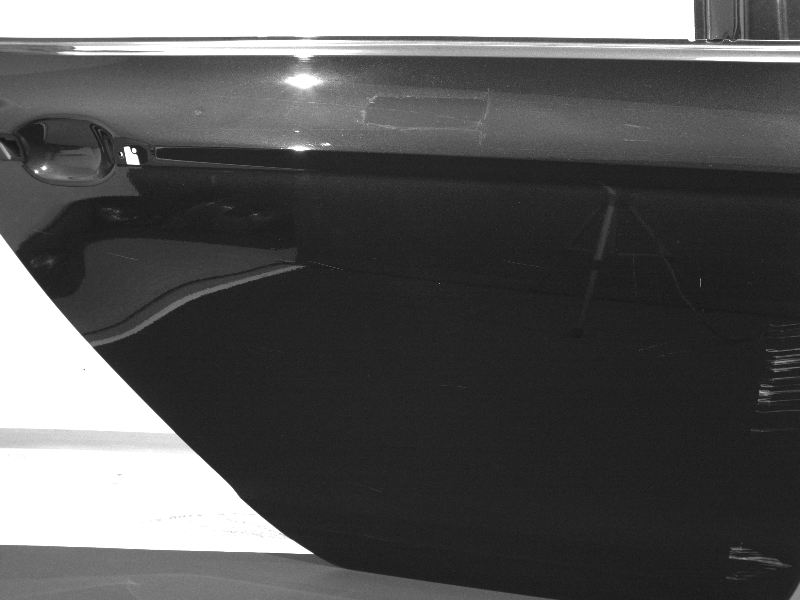scratch: (749, 320, 800, 433), (726, 544, 792, 584), (348, 480, 383, 494), (638, 339, 675, 352), (629, 252, 639, 296), (503, 258, 541, 269), (309, 261, 344, 271), (438, 383, 468, 390), (109, 253, 138, 260), (622, 138, 650, 144), (618, 122, 639, 130), (34, 230, 53, 236), (699, 277, 703, 289)
